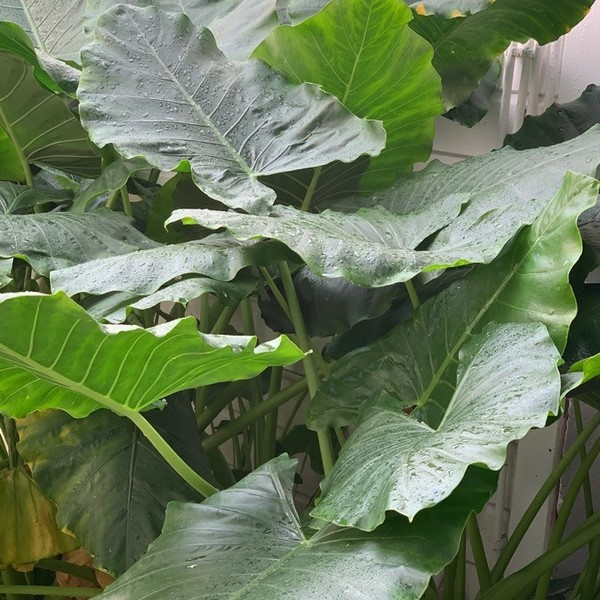obstacle: (38, 216, 524, 589), (147, 46, 574, 343)
